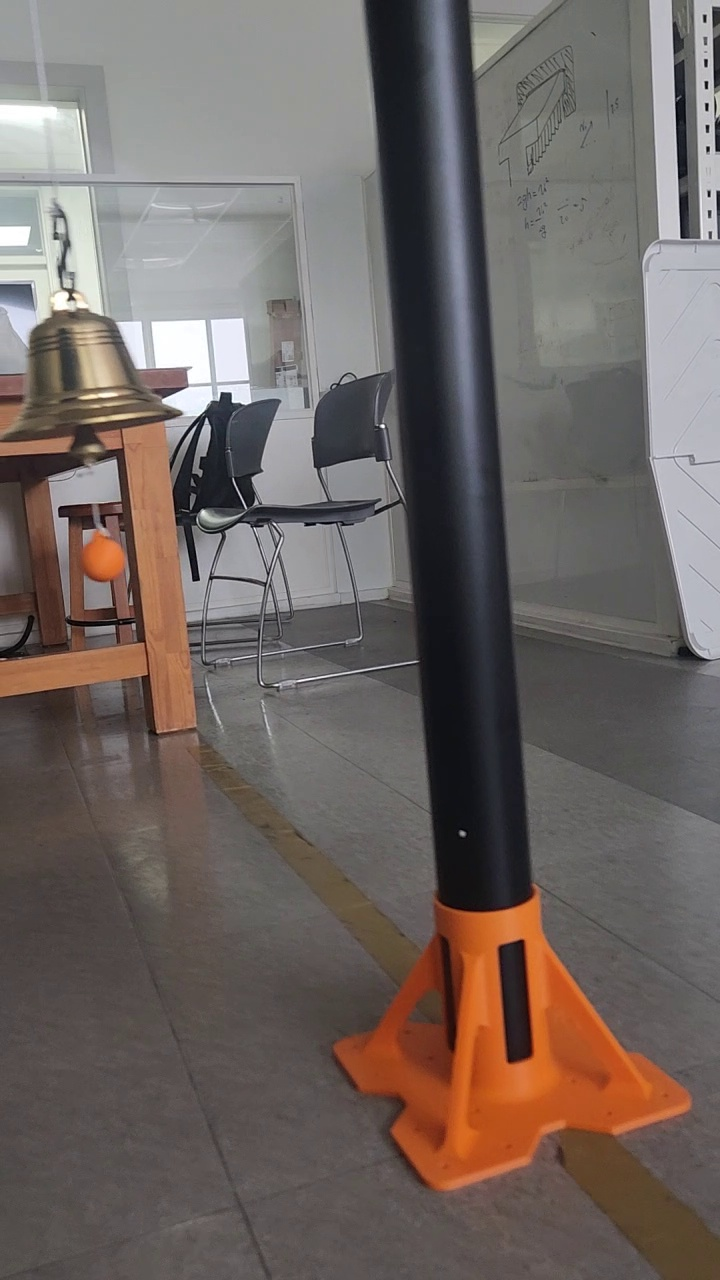bell: (4, 302, 184, 436)
pole: (366, 0, 538, 901)
